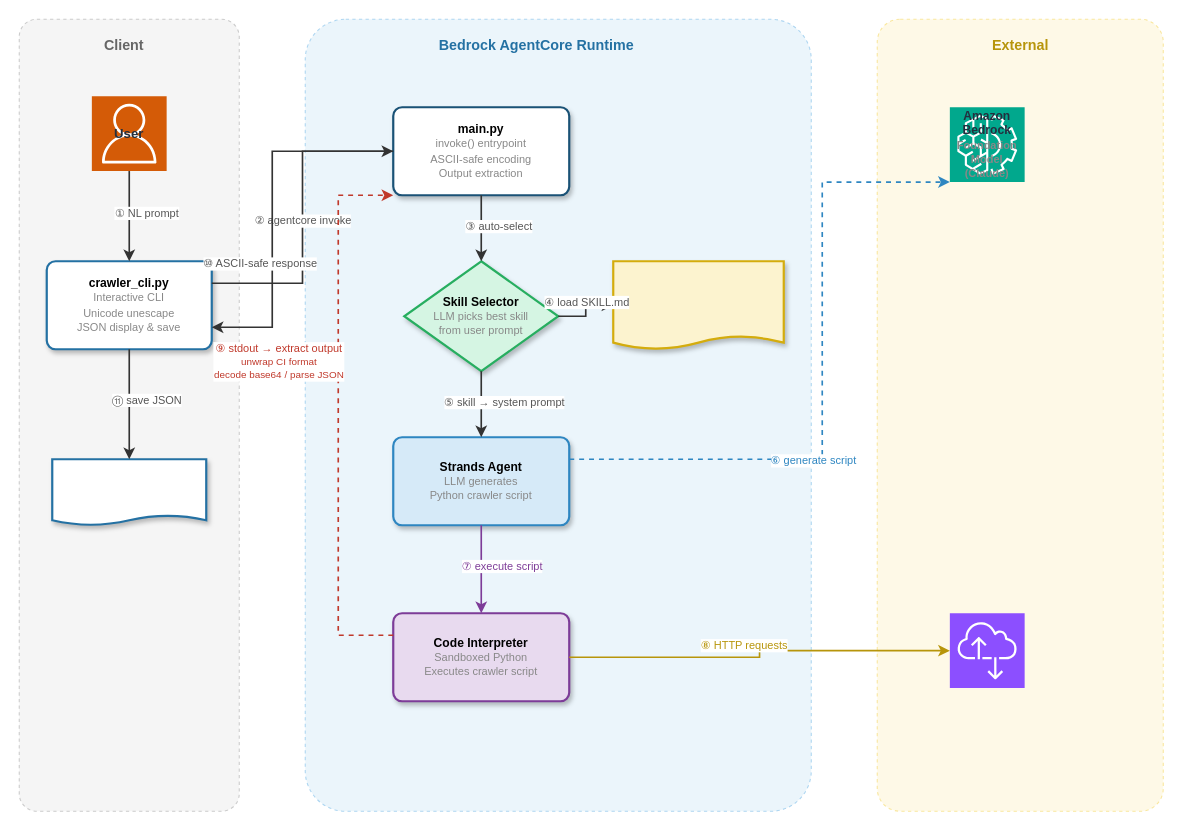
Some shapes in this 1183 by 831 pixel diagram are drawn without their labels. The shapes that lost their labels are listed below. From the top down, each one's centre as x and y in pixels, then its label:
the point at 699,306: SKILL.md default · ecommerce news · api · docs · social
the point at 129,493: movies.json Structured output
the point at 987,650: Target Website e.g. 豆瓣 TOP250
